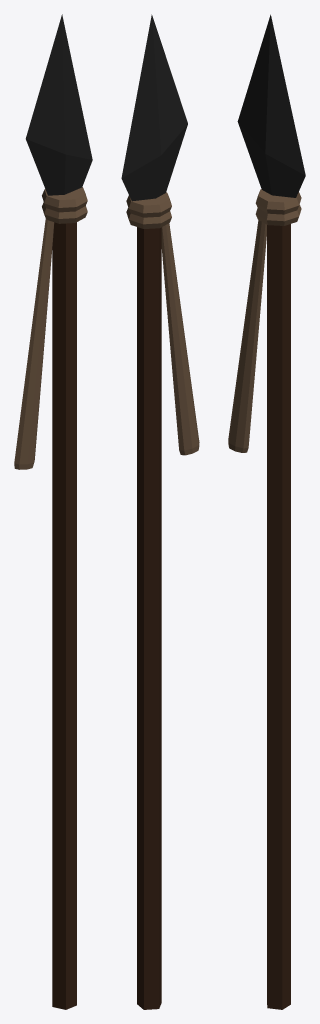
The model's file is Cave_Lair_Weapon_Stone_Spear_Flint_01.fbx.
3 views of the same model, side by side, from view 1: azimuth 30°, elevation 25°; view 2: azimuth 210°, elevation 25°; view 3: azimuth 330°, elevation 25° (orthographic).
Visible parts, largest first — view 1: Cave_Lair_Weapon_Stone_Spear_Flint_01; view 2: Cave_Lair_Weapon_Stone_Spear_Flint_01; view 3: Cave_Lair_Weapon_Stone_Spear_Flint_01.
Boxes of the visible parts, x1,y1,x2,y2 form: Cave_Lair_Weapon_Stone_Spear_Flint_01: (14, 14, 92, 1009); Cave_Lair_Weapon_Stone_Spear_Flint_01: (121, 14, 199, 1009); Cave_Lair_Weapon_Stone_Spear_Flint_01: (228, 14, 305, 1009).
Bounding box in the file's own units: 0.154 × 1.87 × 0.0814.
